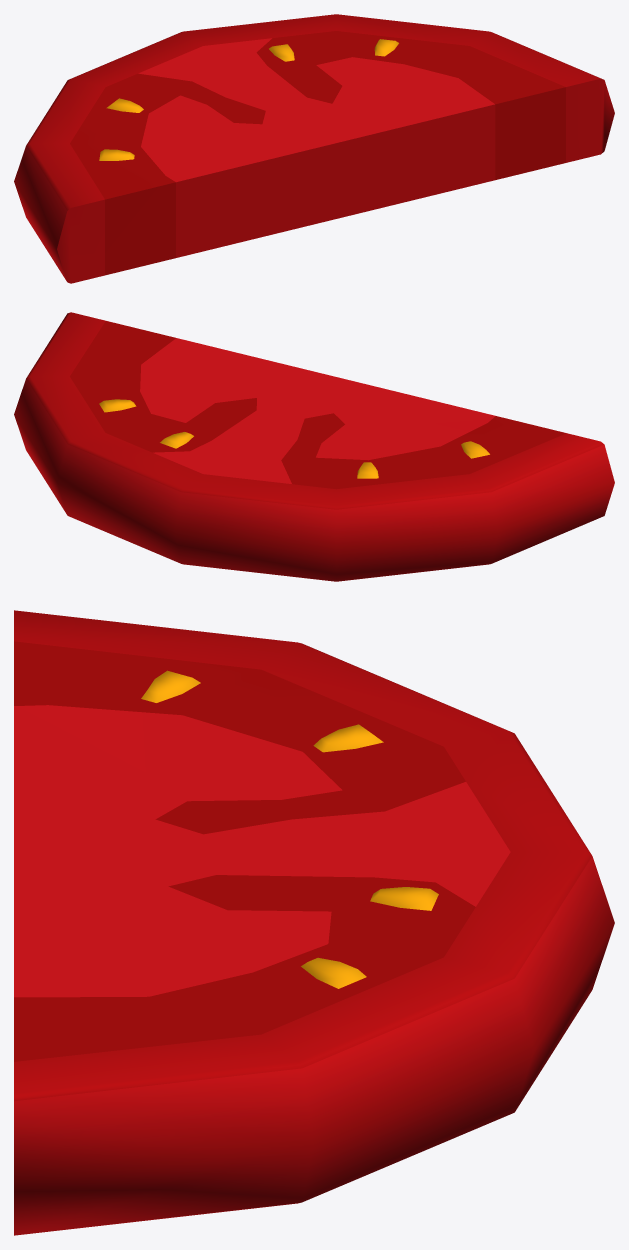
Rendered from Tomato_slice.fbx.
The picture shows the model from 3 angles, top to bottom: view 1: azimuth 30°, elevation 25°; view 2: azimuth 150°, elevation 25°; view 3: azimuth 270°, elevation 25°; orthographic projection. The views are drawn at different scales.
Parts seen in each view (by area): view 1: Tomato_slice; view 2: Tomato_slice; view 3: Tomato_slice.
Part boxes in pixels (x1=…): Tomato_slice: x1=14, y1=14, x2=614, y2=283; Tomato_slice: x1=14, y1=312, x2=614, y2=581; Tomato_slice: x1=14, y1=610, x2=614, y2=1235.
Size of the model in its own units: 57.33 by 28.6 by 8.21.
